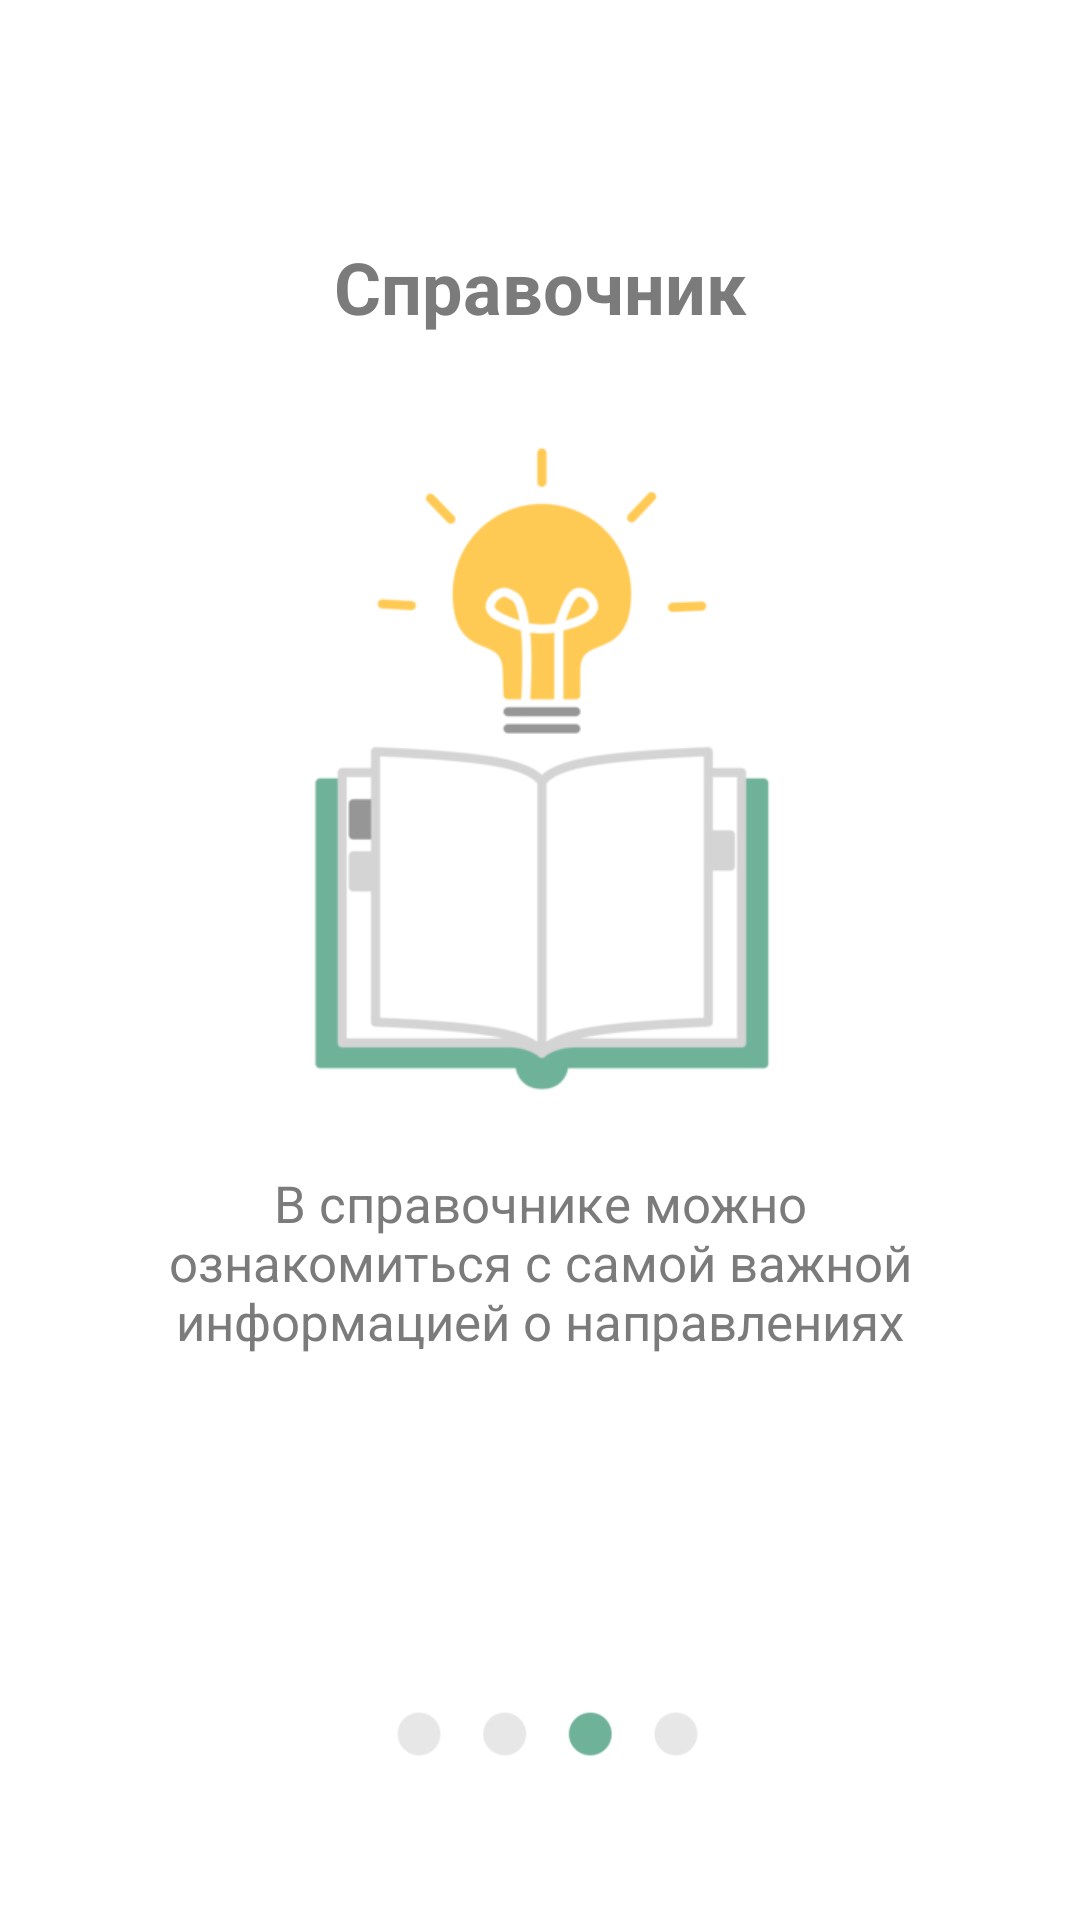

Named icons in this screenshot (1080×1920) and their bounding boxes, {"left": x1, "top": y1, "right": x2, "bottom": y2}:
dots: {"left": 484, "top": 1712, "right": 656, "bottom": 1756}
